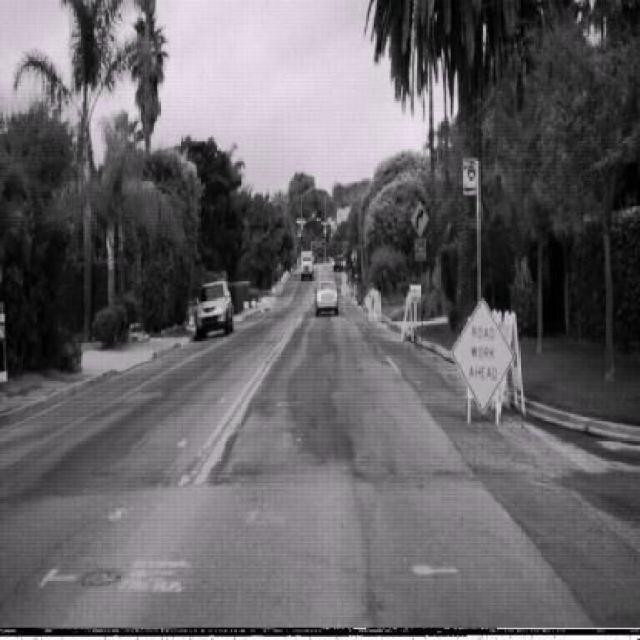curveRight: (411, 200, 429, 237)
